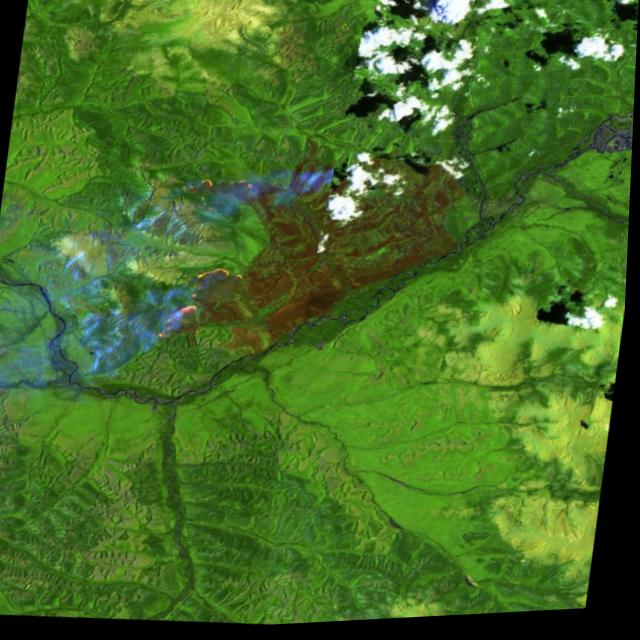fire: (154, 174, 264, 349)
